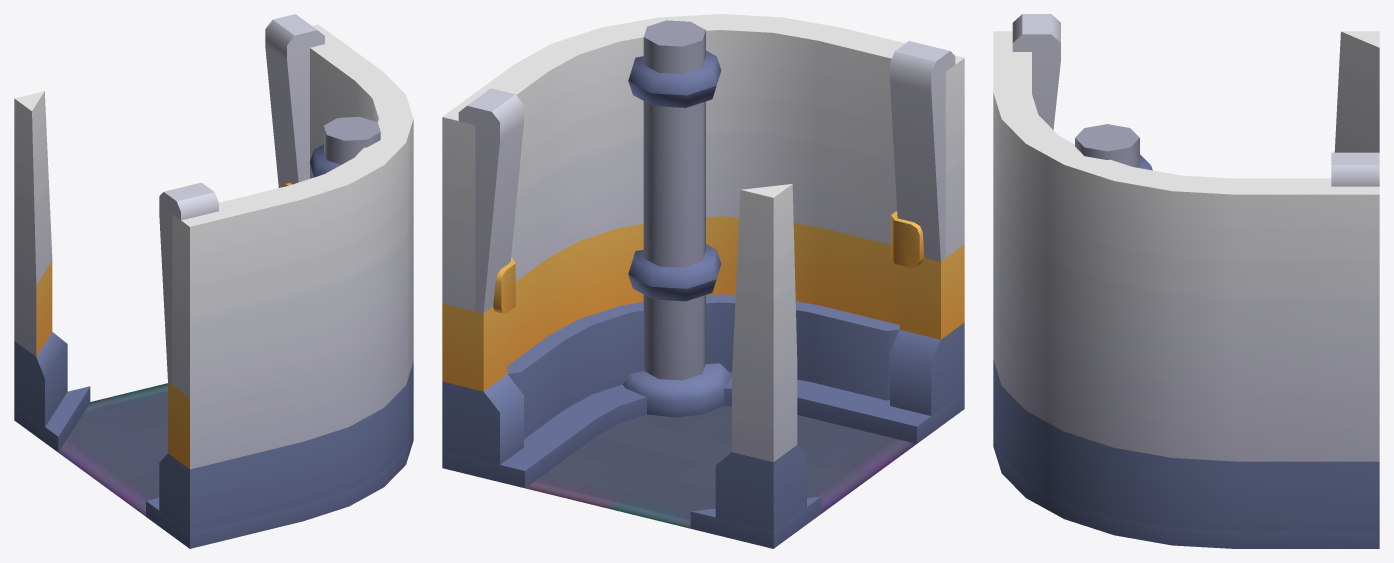
Rendered from corridor-corner.glb.
The picture shows the model from 3 angles, left to right: view 1: azimuth 30°, elevation 25°; view 2: azimuth 150°, elevation 25°; view 3: azimuth 270°, elevation 25°; orthographic projection. The views are drawn at different scales.
Visible parts, largest first — view 1: corridor-corner; view 2: corridor-corner; view 3: corridor-corner.
Part boxes in pixels (x1,y1,x2,y2): corridor-corner: (14, 14, 413, 548); corridor-corner: (442, 14, 964, 548); corridor-corner: (993, 14, 1379, 548).
Bounding box in the file's own units: 4 × 4.25 × 4.
Materials: 1 (1 with a texture image).
